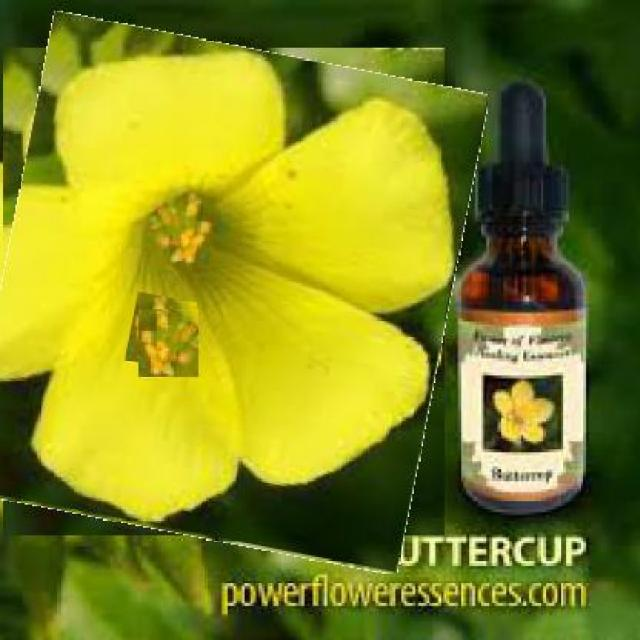Flower: (0, 29, 468, 557), (138, 310, 200, 381)
